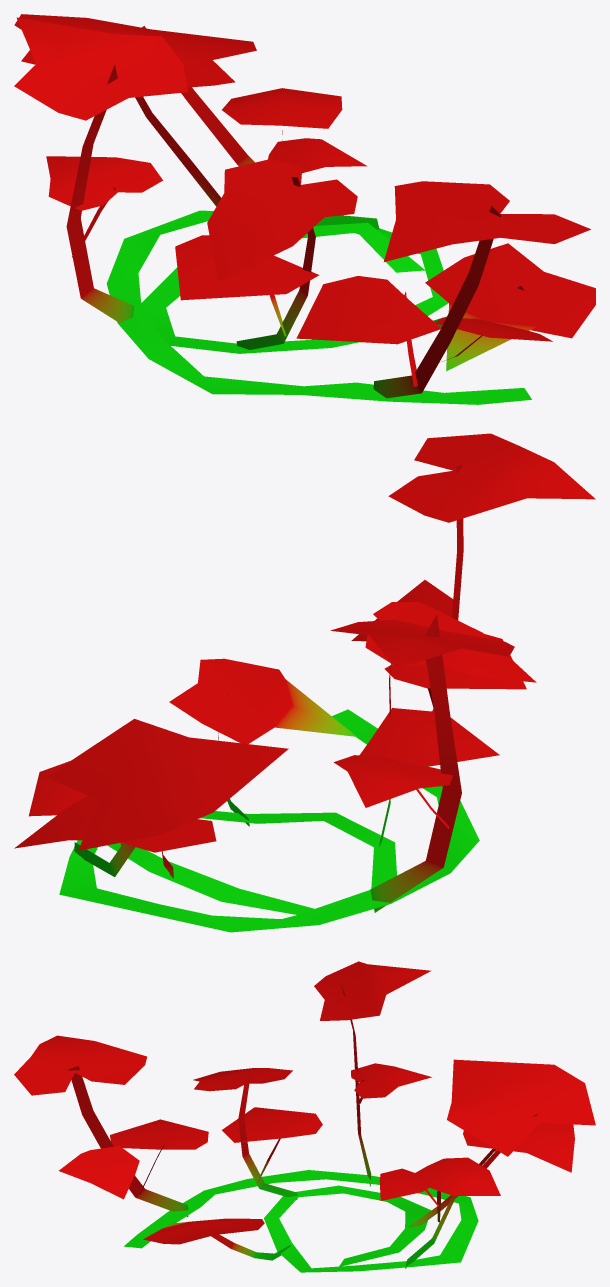
Rendered from Var7_LOD2.fbx.
3 views of the same model, one above another, from view 1: azimuth 30°, elevation 25°; view 2: azimuth 150°, elevation 25°; view 3: azimuth 270°, elevation 25° (orthographic). The views are drawn at different scales.
Parts seen in each view (by area): view 1: _t7al_Var7_LOD2; view 2: _t7al_Var7_LOD2; view 3: _t7al_Var7_LOD2.
Boxes of the visible parts, bbox=[...] form: _t7al_Var7_LOD2: bbox=[14, 14, 595, 404]; _t7al_Var7_LOD2: bbox=[14, 433, 595, 932]; _t7al_Var7_LOD2: bbox=[14, 961, 595, 1272].
Bounding box in the file's own units: 19.6 × 12.57 × 33.57.
